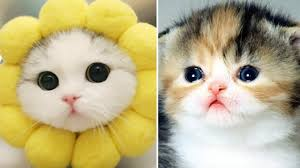kedi: (6, 3, 147, 166), (161, 5, 298, 148)
